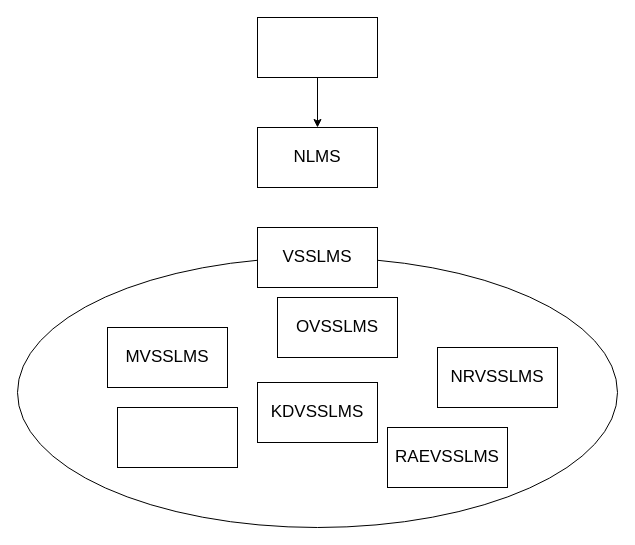
This 635x545 diagram has some shape labels left out. The shapes that lost their labels are listed below. From the top down, each one's box as (x1, y1, x2, y2) in pixels, then its label:
(256, 16, 378, 78): LMS
(116, 406, 238, 468): GASSLMS
